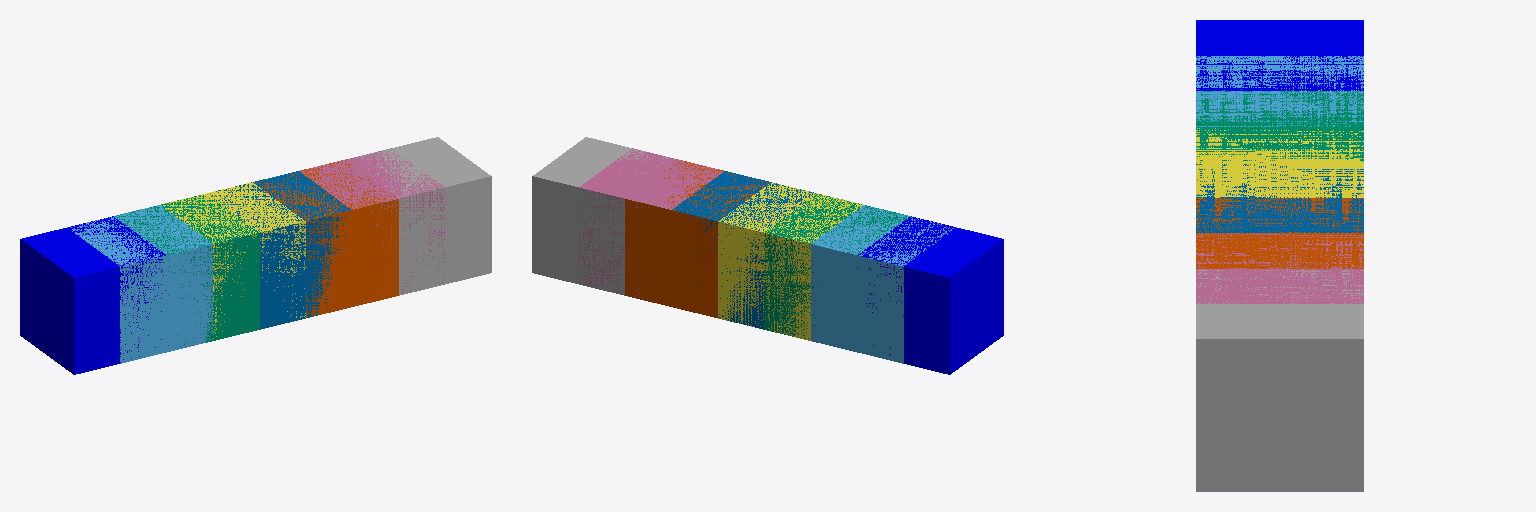
URDF robot description (7dof_arm):
<robot name="7dof_arm">
  <!-- Link 0 (base link) -->
  <link name="base_footprint">
    <visual>
      <origin xyz="0 0 0" rpy="0 0 0"/>
      <geometry>
        <box size="0.1 0.1 0.1"/>
      </geometry>
      <material name="blue">
        <color rgba="0 0 1 1"/>
      </material>
    </visual>
    <collision>
      <origin xyz="0 0 0" rpy="0 0 0"/>
      <geometry>
        <box size="0.1 0.1 0.1"/>
      </geometry>
    </collision>
    <inertial>
      <origin xyz="0 0 0" rpy="0 0 0"/>
      <mass value="1"/>
      <inertia ixx="0.1" ixy="0" ixz="0" iyy="0.1" iyz="0" izz="0.1"/>
    </inertial>
  </link>

  <!-- 7 joints connecting 8 links (base_footprint through link_7) -->
  <!-- Joint 1 -->
  <joint name="joint_1" type="revolute">
    <parent link="base_footprint"/>
    <child link="link_1"/>
    <origin xyz="0.05 0 0" rpy="0 0 0"/>
    <axis xyz="0 0 1"/>
    <limit effort="10" lower="-1.57" upper="1.57" velocity="1"/>
  </joint>
  <link name="link_1">
    <visual>
      <origin xyz="0 0 0" rpy="0 0 0"/>
      <geometry>
        <box size="0.1 0.1 0.1"/>
      </geometry>
    </visual>
    <collision>
      <geometry>
        <box size="0.1 0.1 0.1"/>
      </geometry>
    </collision>
    <inertial>
      <mass value="1"/>
      <inertia ixx="0.1" ixy="0" ixz="0" iyy="0.1" iyz="0" izz="0.1"/>
    </inertial>
  </link>

  <!-- Joint 2 -->
  <joint name="joint_2" type="revolute">
    <parent link="link_1"/>
    <child link="link_2"/>
    <origin xyz="0.05 0 0" rpy="0 0 0"/>
    <axis xyz="0 1 0"/>
    <limit effort="10" lower="-1.57" upper="1.57" velocity="1"/>
  </joint>
  <link name="link_2">
    <visual>
      <geometry>
        <box size="0.1 0.1 0.1"/>
      </geometry>
    </visual>
  </link>

  <!-- Joint 3 -->
  <joint name="joint_3" type="revolute">
    <parent link="link_2"/>
    <child link="link_3"/>
    <origin xyz="0.05 0 0" rpy="0 0 0"/>
    <axis xyz="0 0 1"/>
    <limit effort="10" lower="-1.57" upper="1.57" velocity="1"/>
  </joint>
  <link name="link_3">
    <visual>
      <geometry>
        <box size="0.1 0.1 0.1"/>
      </geometry>
    </visual>
  </link>

  <!-- Joint 4 -->
  <joint name="joint_4" type="revolute">
    <parent link="link_3"/>
    <child link="link_4"/>
    <origin xyz="0.05 0 0" rpy="0 0 0"/>
    <axis xyz="0 1 0"/>
    <limit effort="10" lower="-1.57" upper="1.57" velocity="1"/>
  </joint>
  <link name="link_4">
    <visual>
      <geometry>
        <box size="0.1 0.1 0.1"/>
      </geometry>
    </visual>
  </link>

  <!-- Joint 5 -->
  <joint name="joint_5" type="revolute">
    <parent link="link_4"/>
    <child link="link_5"/>
    <origin xyz="0.05 0 0" rpy="0 0 0"/>
    <axis xyz="0 0 1"/>
    <limit effort="10" lower="-1.57" upper="1.57" velocity="1"/>
  </joint>
  <link name="link_5">
    <visual>
      <geometry>
        <box size="0.1 0.1 0.1"/>
      </geometry>
    </visual>
  </link>

  <!-- Joint 6 -->
  <joint name="joint_6" type="revolute">
    <parent link="link_5"/>
    <child link="link_6"/>
    <origin xyz="0.05 0 0" rpy="0 0 0"/>
    <axis xyz="0 1 0"/>
    <limit effort="10" lower="-1.57" upper="1.57" velocity="1"/>
  </joint>
  <link name="link_6">
    <visual>
      <geometry>
        <box size="0.1 0.1 0.1"/>
      </geometry>
    </visual>
  </link>

  <!-- Joint 7 -->
  <joint name="joint_7" type="revolute">
    <parent link="link_6"/>
    <child link="link_7"/>
    <origin xyz="0.05 0 0" rpy="0 0 0"/>
    <axis xyz="0 0 1"/>
    <limit effort="10" lower="-1.57" upper="1.57" velocity="1"/>
  </joint>
  <link name="link_7">
    <visual>
      <geometry>
        <box size="0.1 0.1 0.1"/>
      </geometry>
    </visual>
  </link>
</robot>

--- Facts derived from the render (not from the file) ---
Views: 3 orthographic renders of the robot side by side, from view 1: azimuth 30°, elevation 25°; view 2: azimuth 150°, elevation 25°; view 3: azimuth 270°, elevation 25°.
Model 7dof_arm with 8 links and 7 joints (7 revolute), rooted at base_footprint, posed every joint at zero.
Links seen in each view (by area): view 1: base_footprint, link_7, link_1, link_5, link_4, link_2, link_6, link_3; view 2: base_footprint, link_1, link_7, link_5, link_3, link_6, link_2, link_4; view 3: link_7, base_footprint, link_3, link_6, link_2, link_5, link_1, link_4.
Link boxes in pixels (box(x1,y1,x2,y2)): base_footprint: box(20, 216, 165, 374); link_7: box(356, 137, 491, 295); link_1: box(67, 205, 212, 363); link_5: box(255, 160, 398, 317); link_4: box(210, 171, 350, 329); link_2: box(115, 195, 259, 345); link_6: box(300, 148, 444, 292); link_3: box(161, 182, 305, 338); base_footprint: box(857, 216, 1003, 374); link_1: box(811, 205, 956, 363); link_7: box(532, 137, 667, 295); link_5: box(625, 160, 770, 317); link_3: box(718, 182, 862, 340); link_6: box(579, 148, 722, 298); link_2: box(764, 194, 909, 338); link_4: box(672, 171, 816, 329); link_7: box(1196, 269, 1363, 491); base_footprint: box(1196, 20, 1363, 90); link_3: box(1196, 128, 1363, 197); link_6: box(1196, 233, 1363, 303); link_2: box(1196, 91, 1363, 161); link_5: box(1196, 198, 1363, 268); link_1: box(1196, 56, 1363, 126); link_4: box(1196, 162, 1363, 232).
Size in the robot's own frame: 0.45 by 0.1 by 0.1 metres.
Geometry: primitives only (box / cylinder / sphere), no mesh files.
